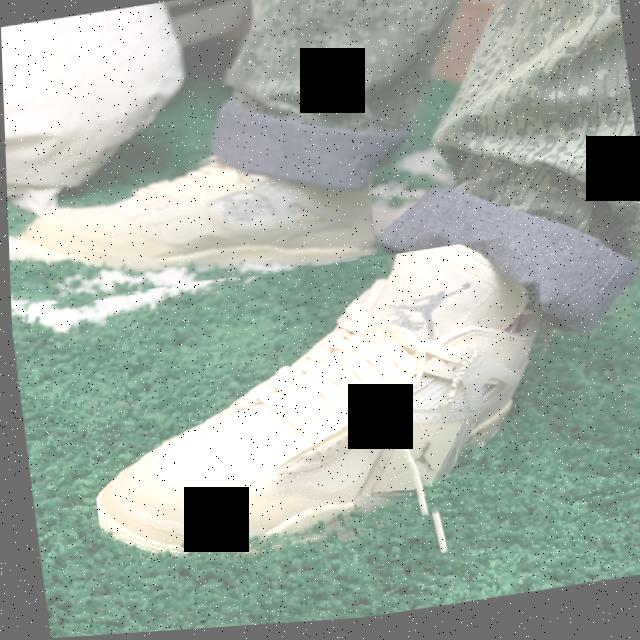shoe: (67, 238, 568, 582), (11, 134, 376, 308)
